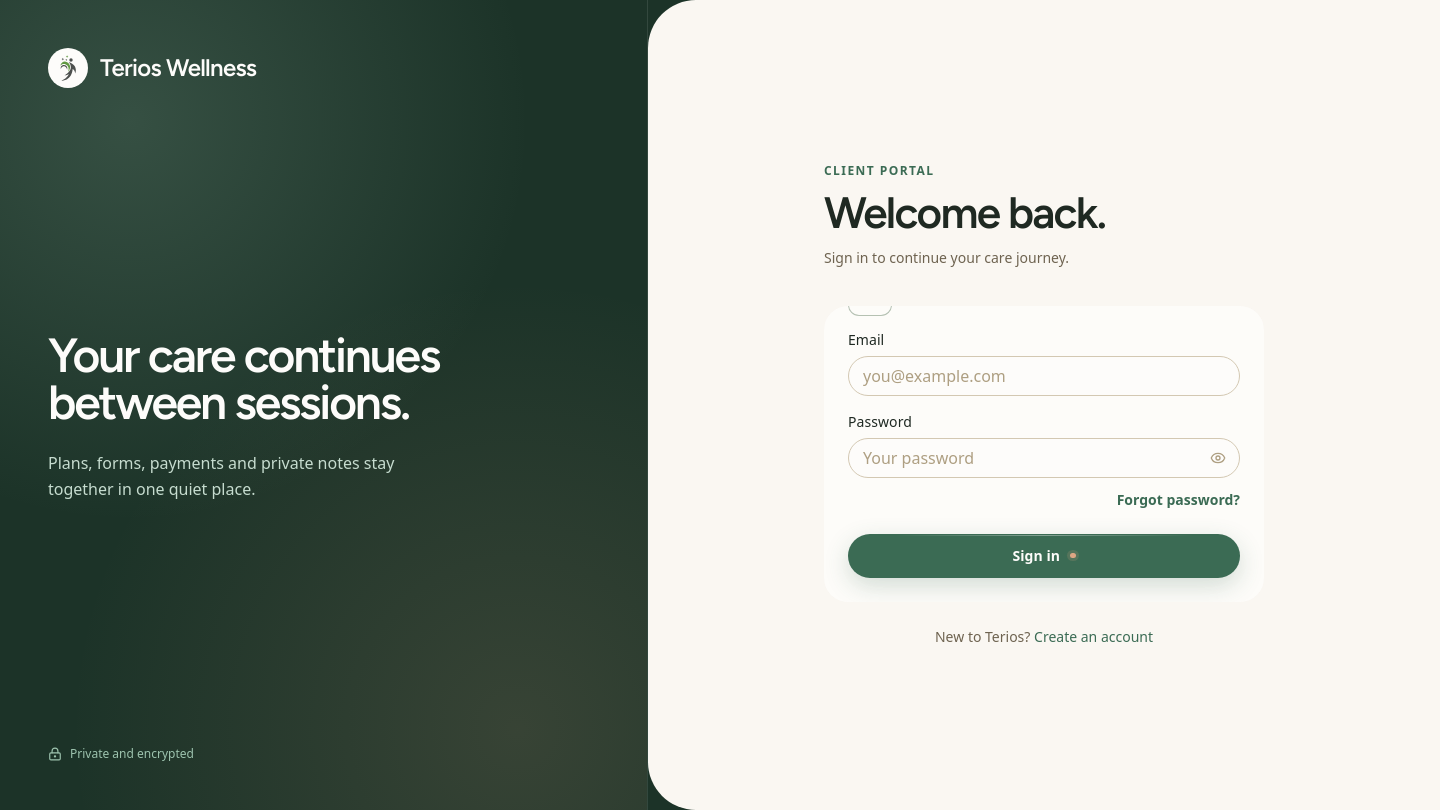
Scenario: LoginPage › shows the brand-voice banner for invalid credentials
Type "a@b.com" into the field labelled "Email" at (1044, 376), box [848,356,1240,396]
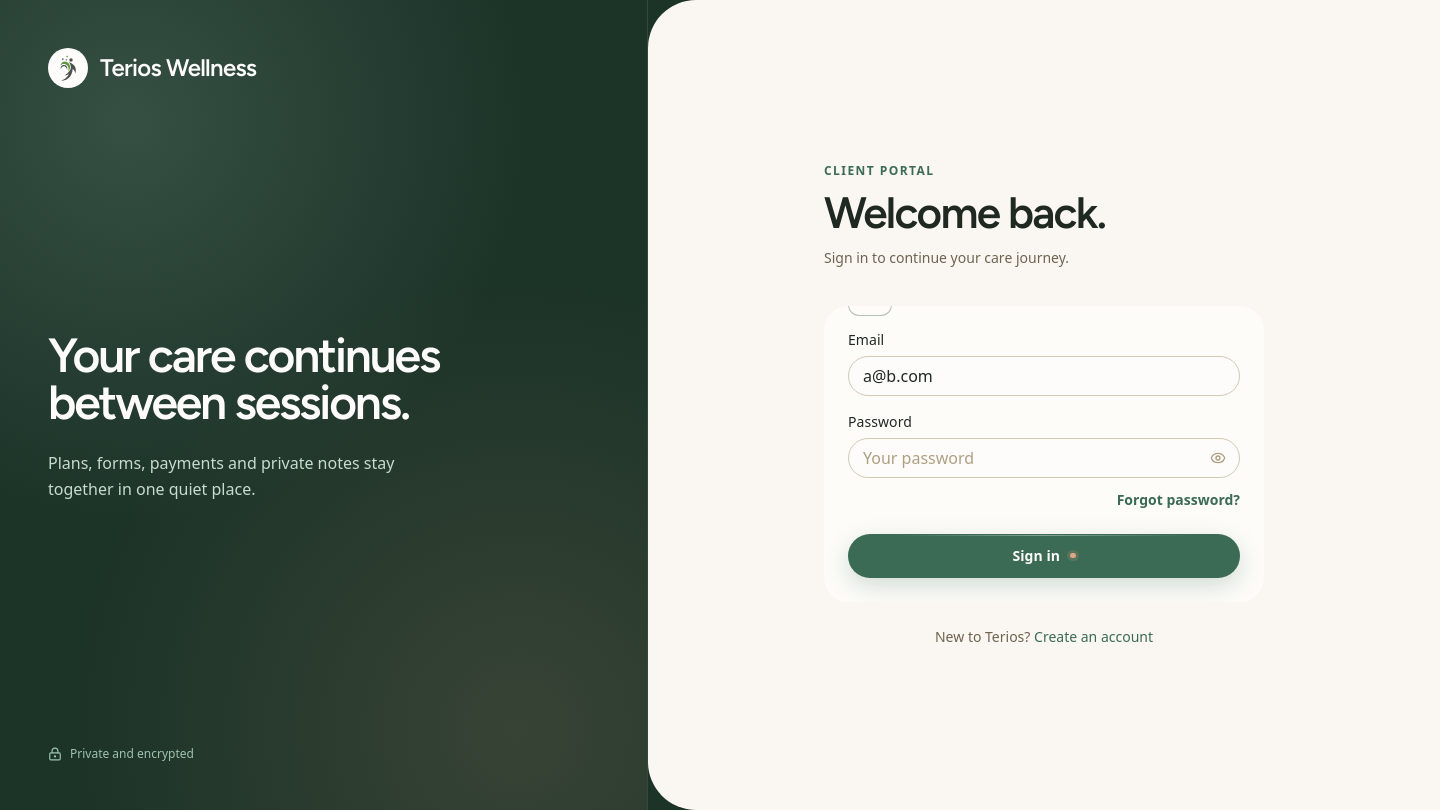
Type "wrong" into the password field labelled "Password" at (1044, 458), box [848,438,1240,478]
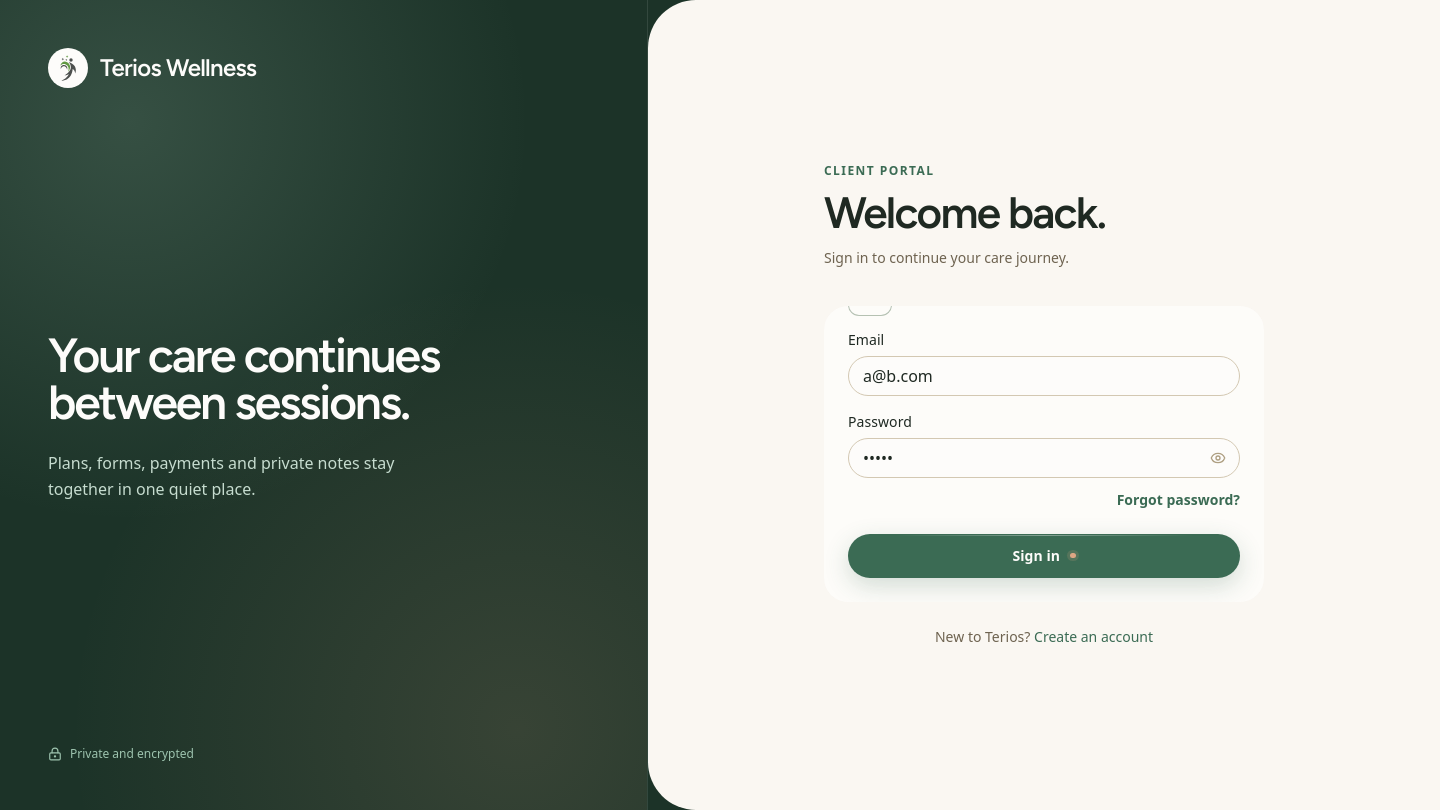
Submit the form "Sign in", box [848,330,1240,578]
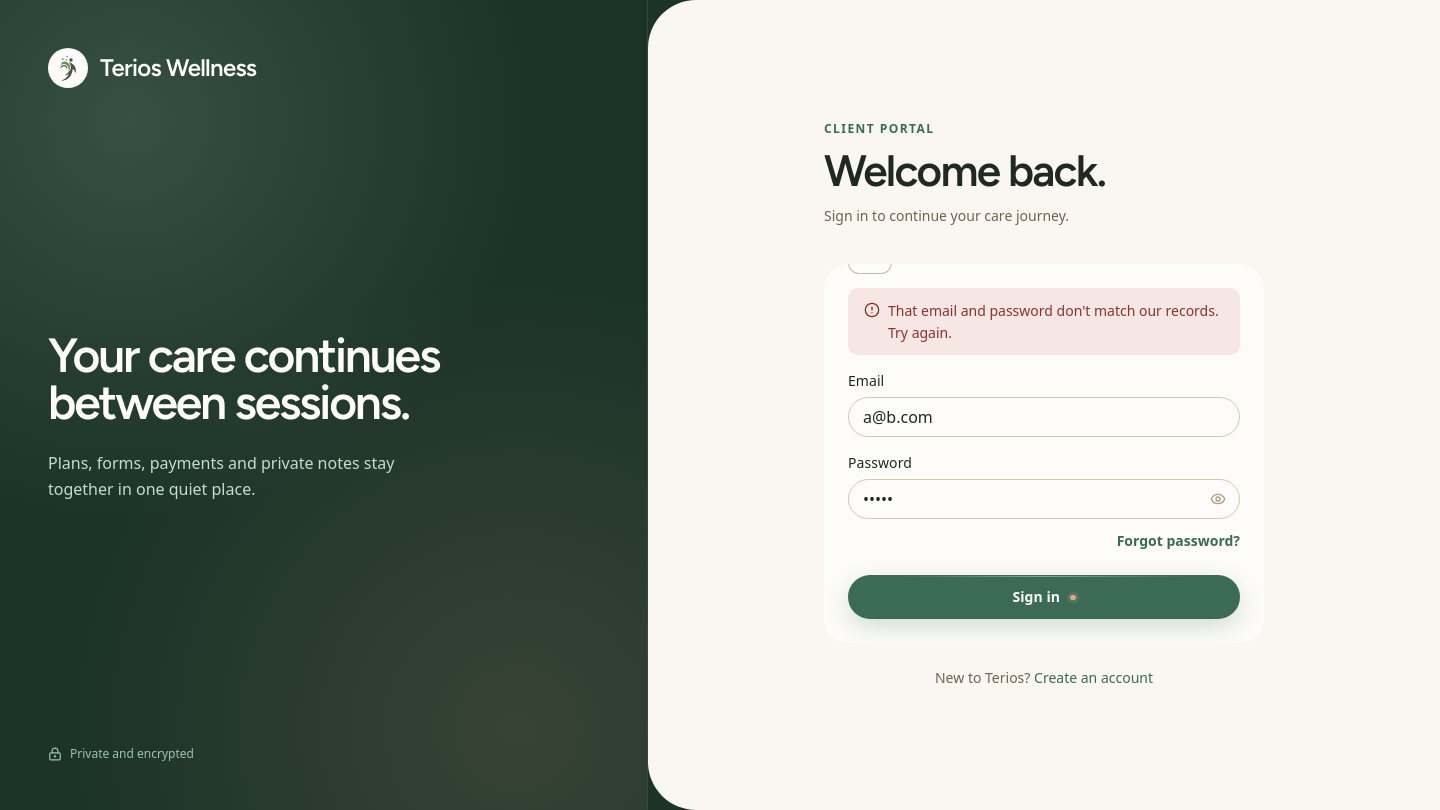
Expected: the message shows "That email and password don't match our records.", [888,301,1219,342]
